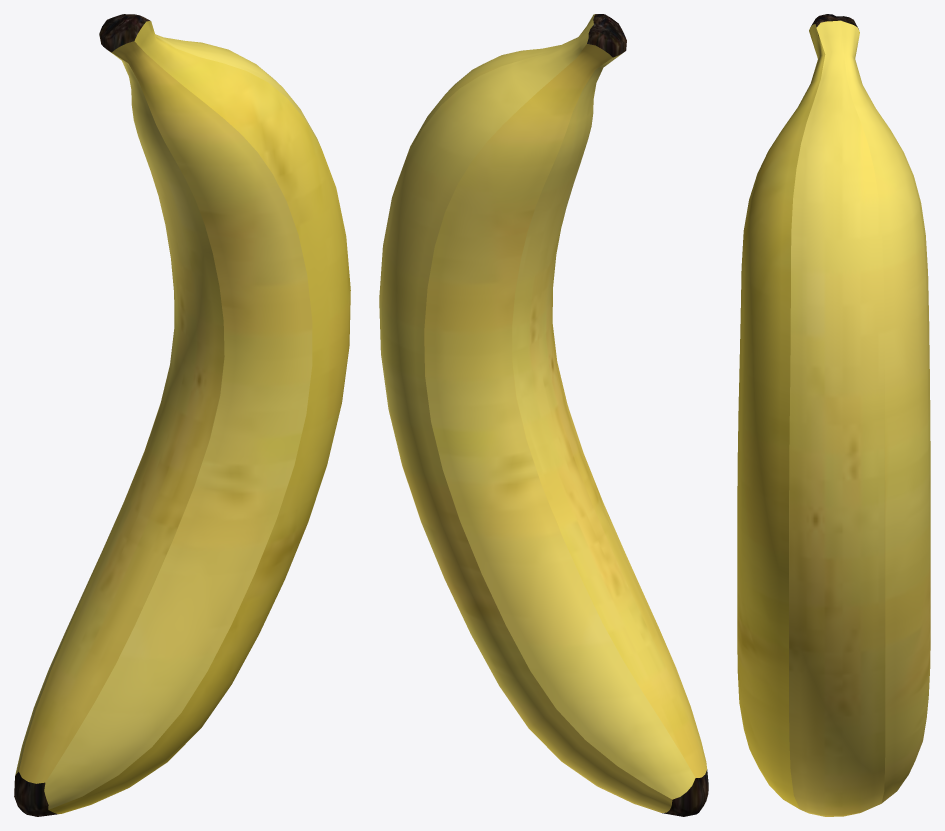
The model's file is banana.dae.
The picture shows the model from 3 angles, left to right: view 1: azimuth 30°, elevation 25°; view 2: azimuth 150°, elevation 25°; view 3: azimuth 270°, elevation 25°; orthographic projection. The views are drawn at different scales.
Visible parts, largest first — view 1: Box01; view 2: Box01; view 3: Box01.
Boxes of the visible parts, x1,y1,x2,y2 form: Box01: (14,14,350,816); Box01: (379,14,708,816); Box01: (737,14,930,816).
Size of the model in its own units: 386 by 909 by 193.
Materials: 8 (8 with a texture image).
